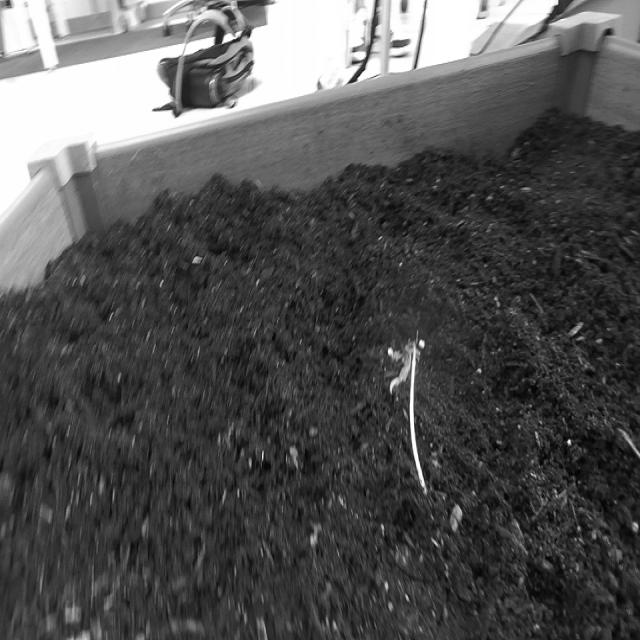Unhealthy: (384, 324, 435, 502)
